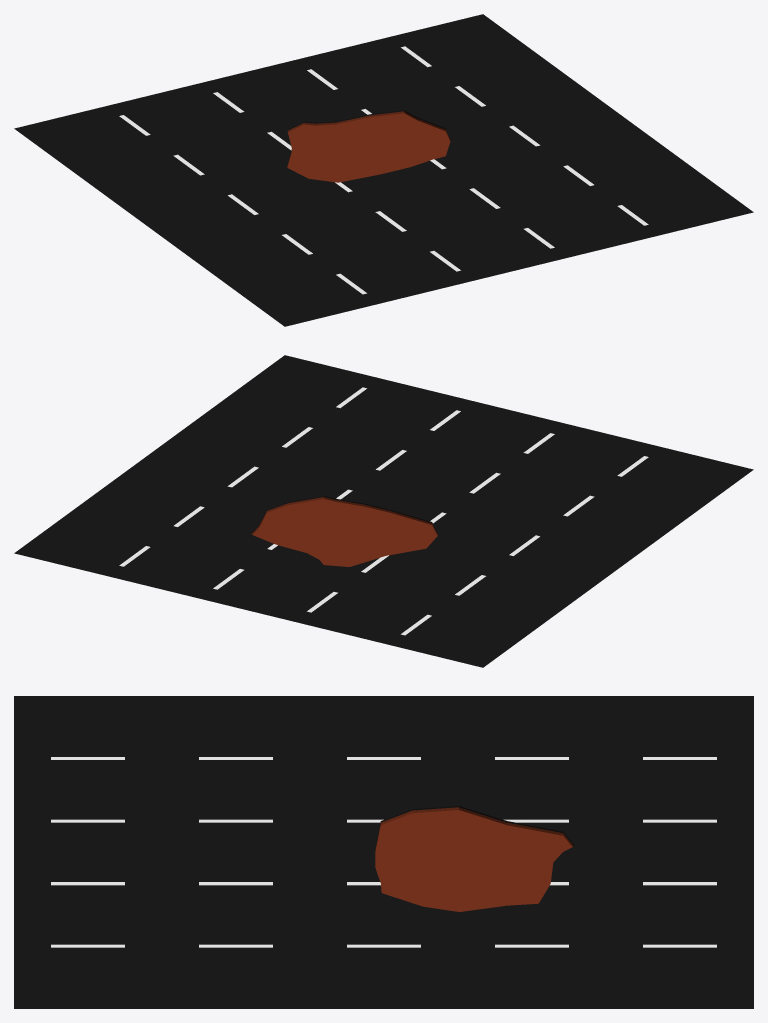
File: Road_5_Lane_Crack_B.fbx
3 views of the same model, one above another, from view 1: azimuth 30°, elevation 25°; view 2: azimuth 150°, elevation 25°; view 3: azimuth 270°, elevation 25° (orthographic). The views are drawn at different scales.
Visible parts, largest first — view 1: Road_5_Lane_Crack_B; view 2: Road_5_Lane_Crack_B; view 3: Road_5_Lane_Crack_B.
Boxes of the visible parts, left/top/right/bottom form: Road_5_Lane_Crack_B: left=14, top=14, right=753, bottom=326; Road_5_Lane_Crack_B: left=14, top=355, right=753, bottom=667; Road_5_Lane_Crack_B: left=14, top=696, right=753, bottom=1008.
Size of the model in its own units: 500 by 3.14 by 500.
